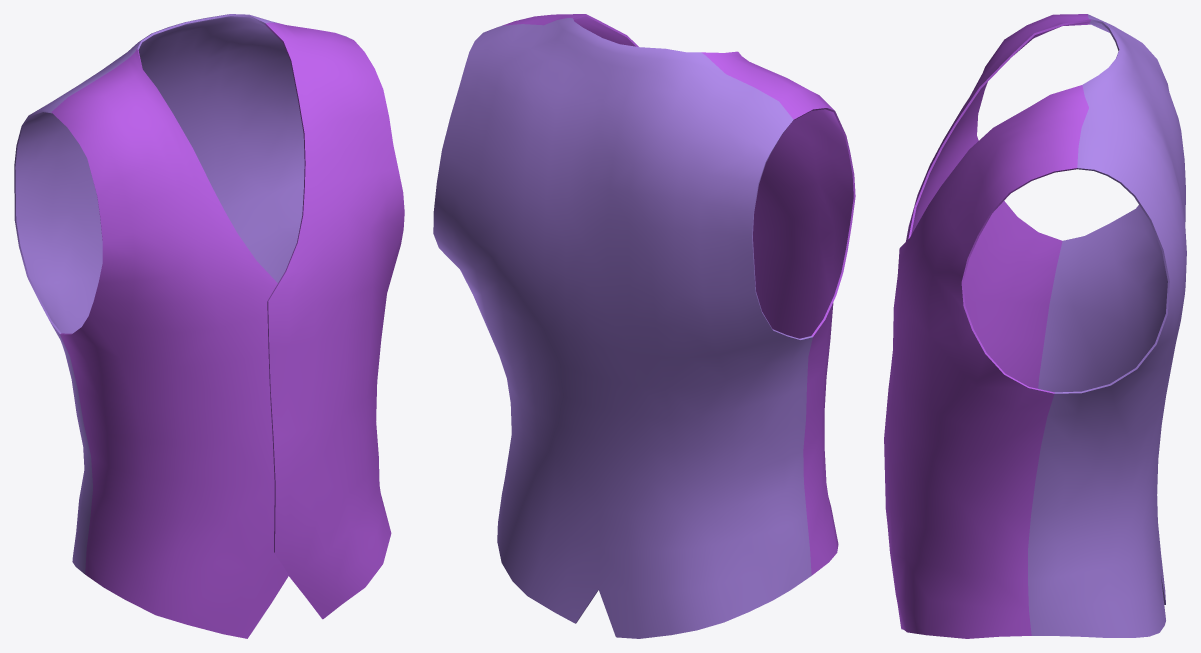
File: Waistcoat_01_01.fbx
3 renders of one model, left to right at view 1: azimuth 30°, elevation 25°; view 2: azimuth 150°, elevation 25°; view 3: azimuth 270°, elevation 25°, orthographic. The views are drawn at different scales.
Parts seen in each view (by area): view 1: RetopoFlow.001; view 2: RetopoFlow.001; view 3: RetopoFlow.001.
Boxes of the visible parts, bbox=[...] form: RetopoFlow.001: bbox=[14, 14, 404, 638]; RetopoFlow.001: bbox=[433, 14, 855, 638]; RetopoFlow.001: bbox=[884, 14, 1186, 638].
Size of the model in its own units: 36.98 by 60.19 by 29.13.
